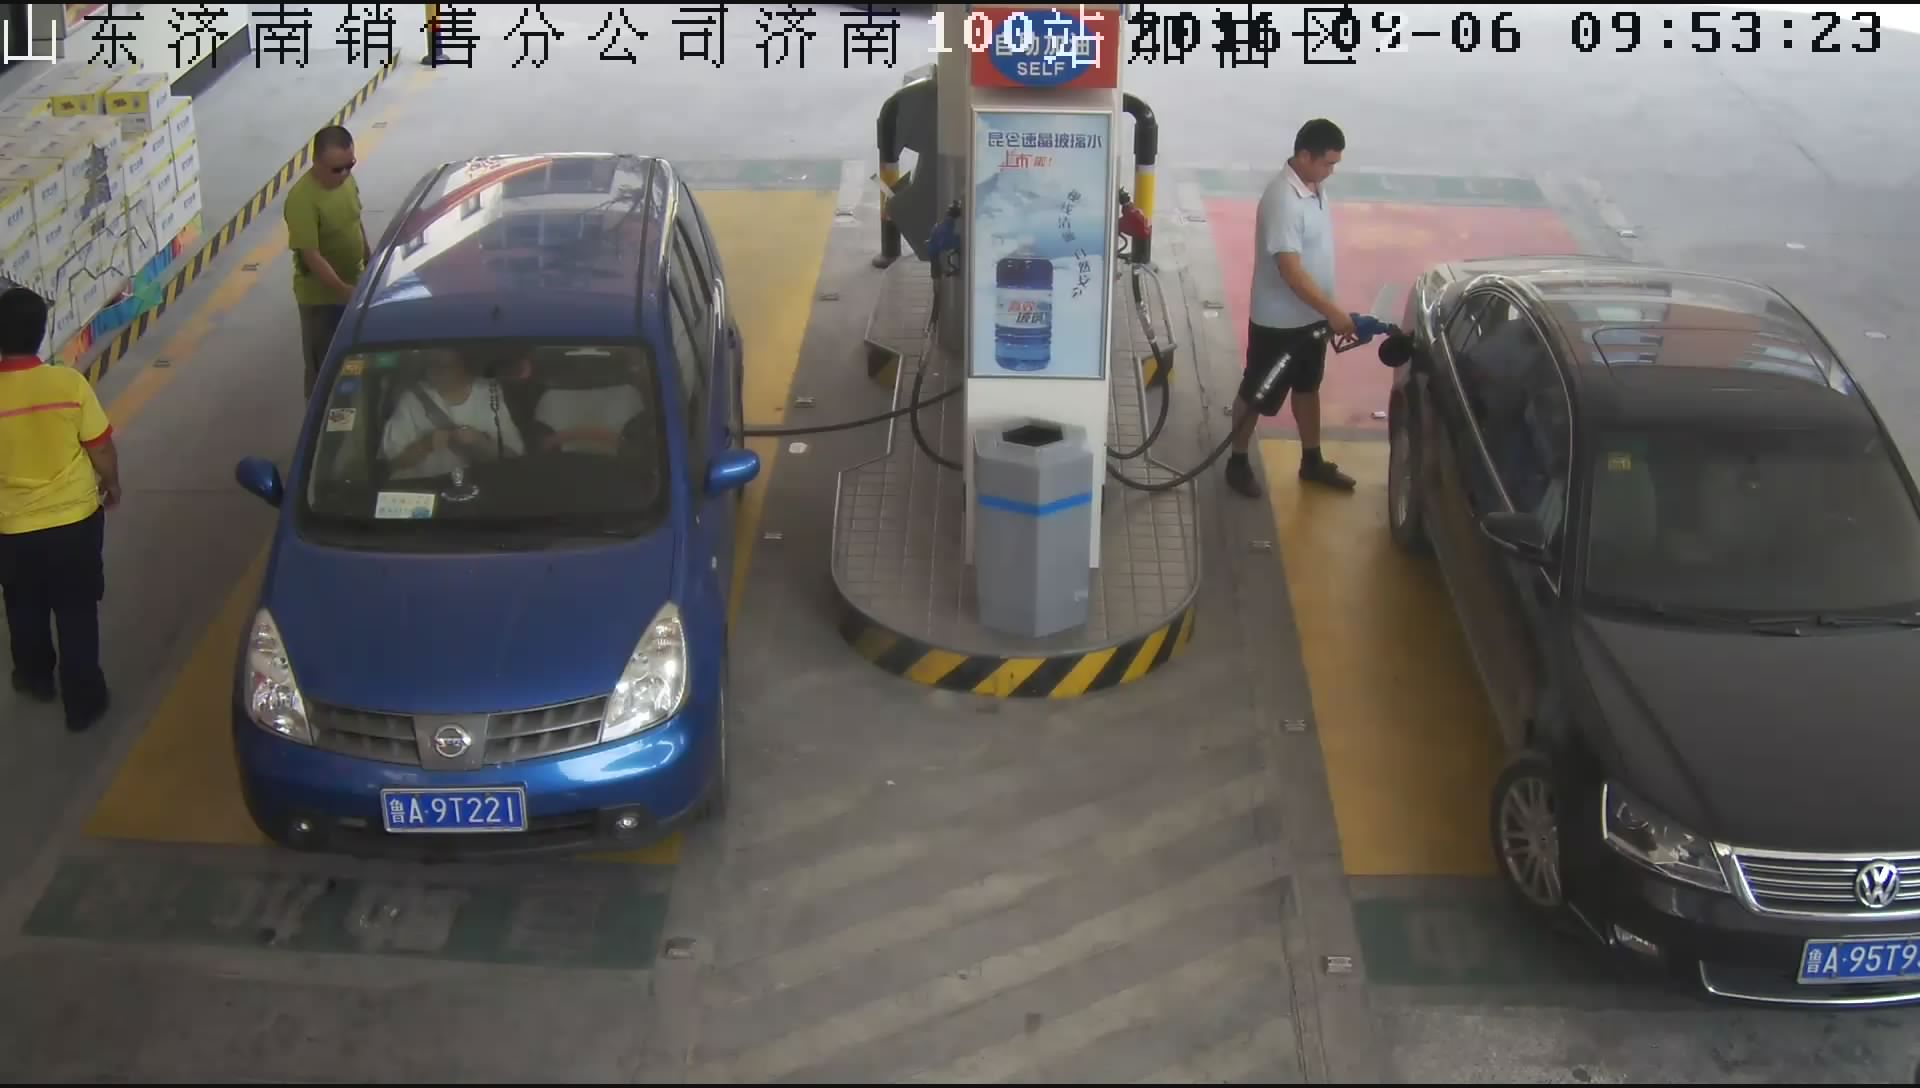blue: (381, 787, 529, 833)
